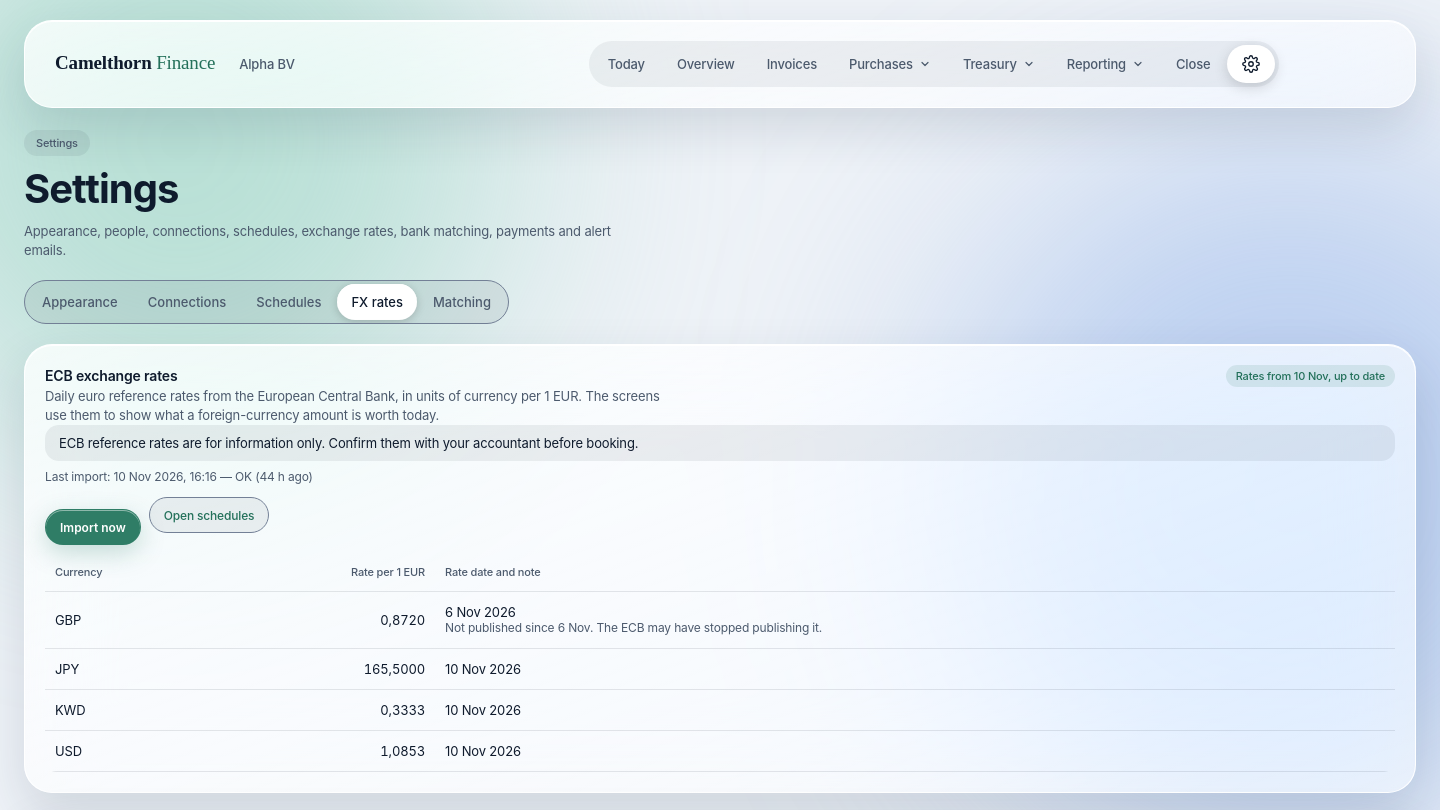
Test case: Settings, FX rates › Import now › says when it is already running (409)
Click the button "Import now" at (93, 527), box [45,509,141,545]
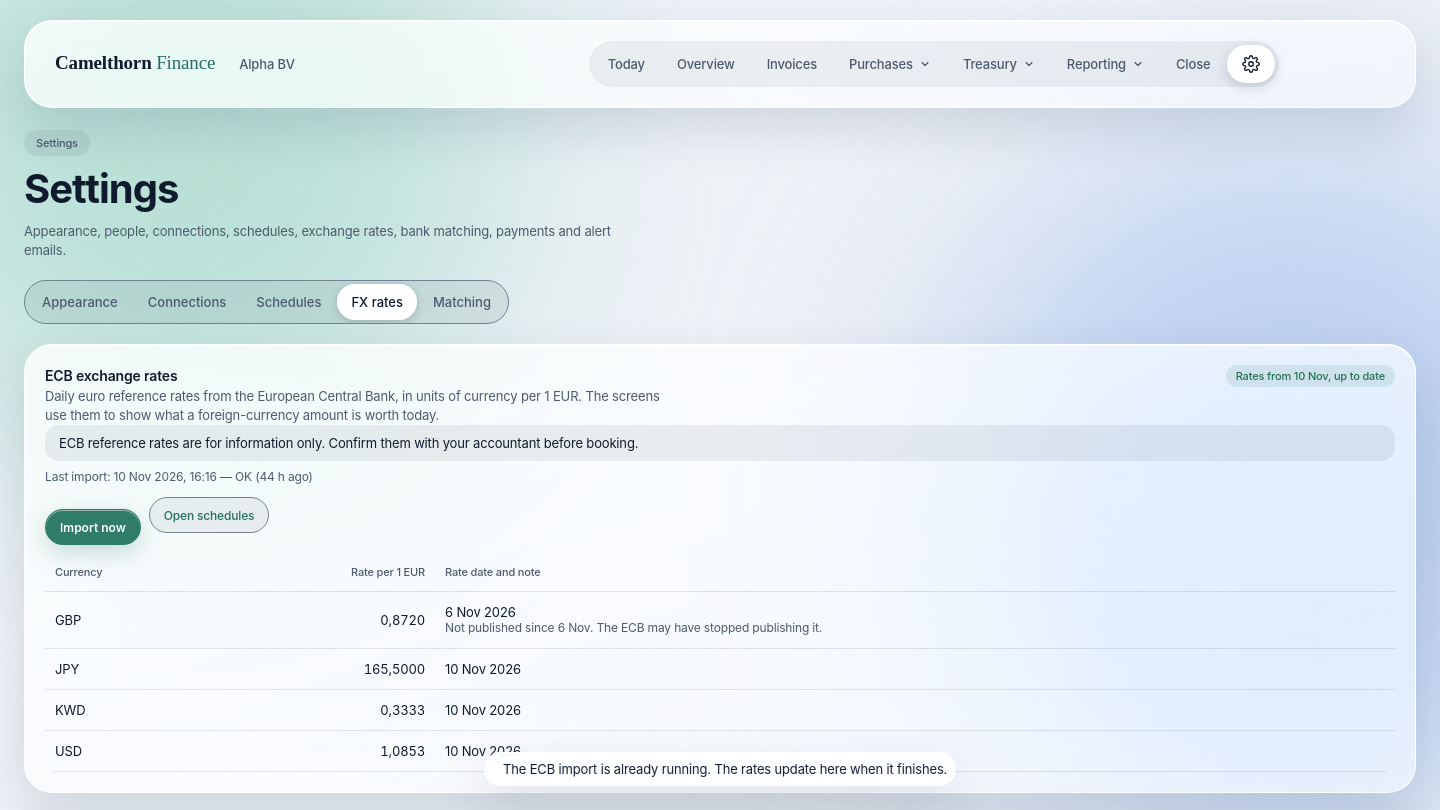
expect the text "The ECB import is already running" is shown: met, box [503,761,947,777]
